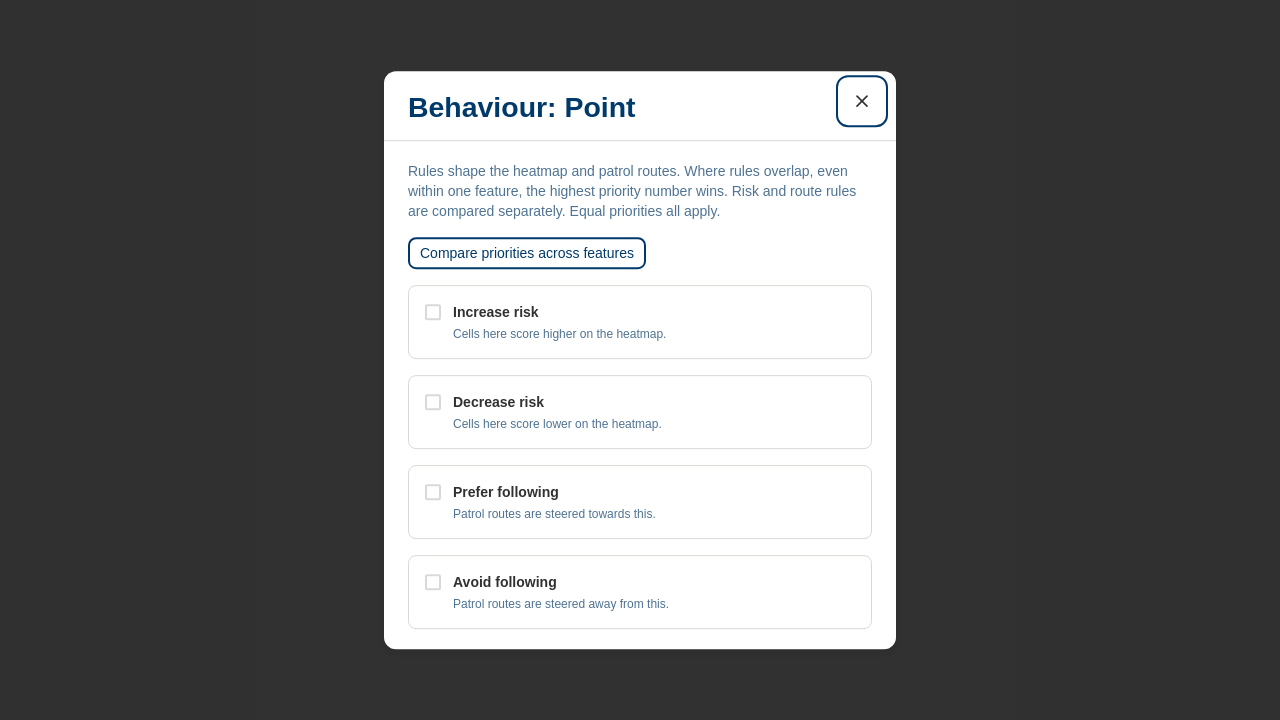
RuleEditorDialog for a feature › switching an intent on creates the rule and reveals its controls
The width and height of the screenshot is (1280, 720).
Click the checkbox labelled "Avoid following".
click(433, 582)  # box top-left (425, 574), bottom-right (441, 590)
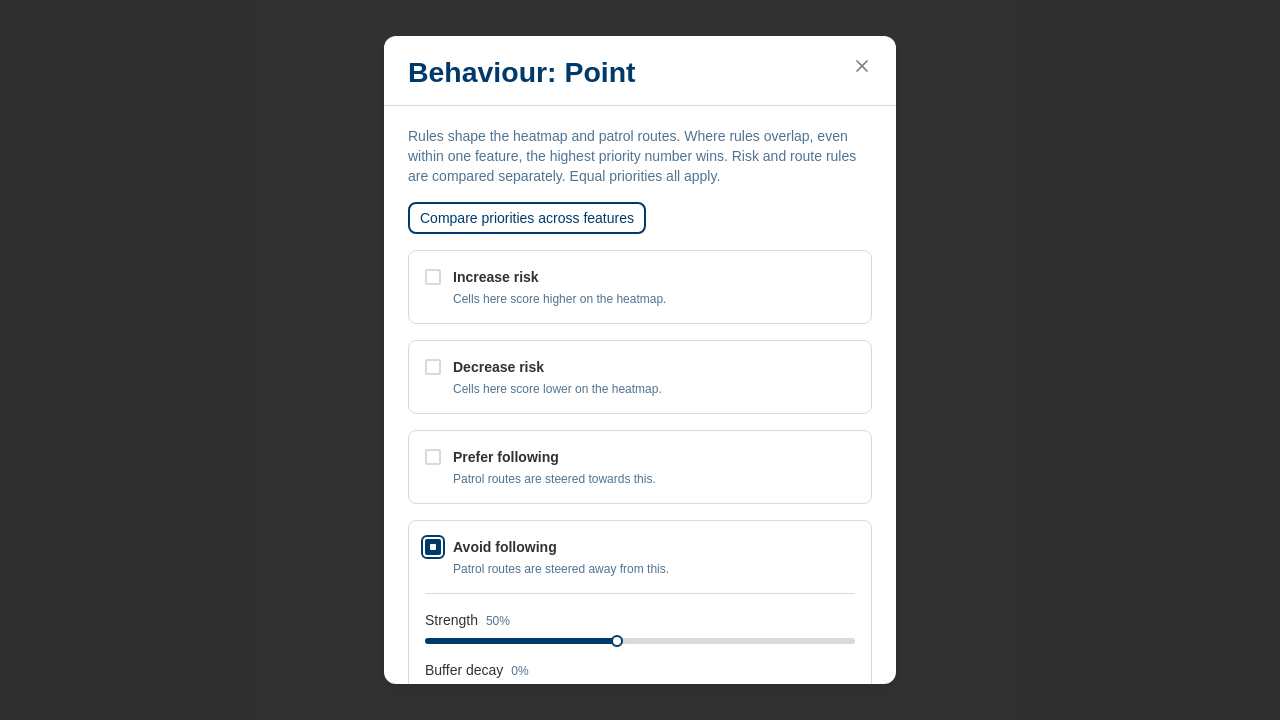
Result: the slider named "Avoid following strength" is shown at top-left (425, 638), bottom-right (855, 644)
